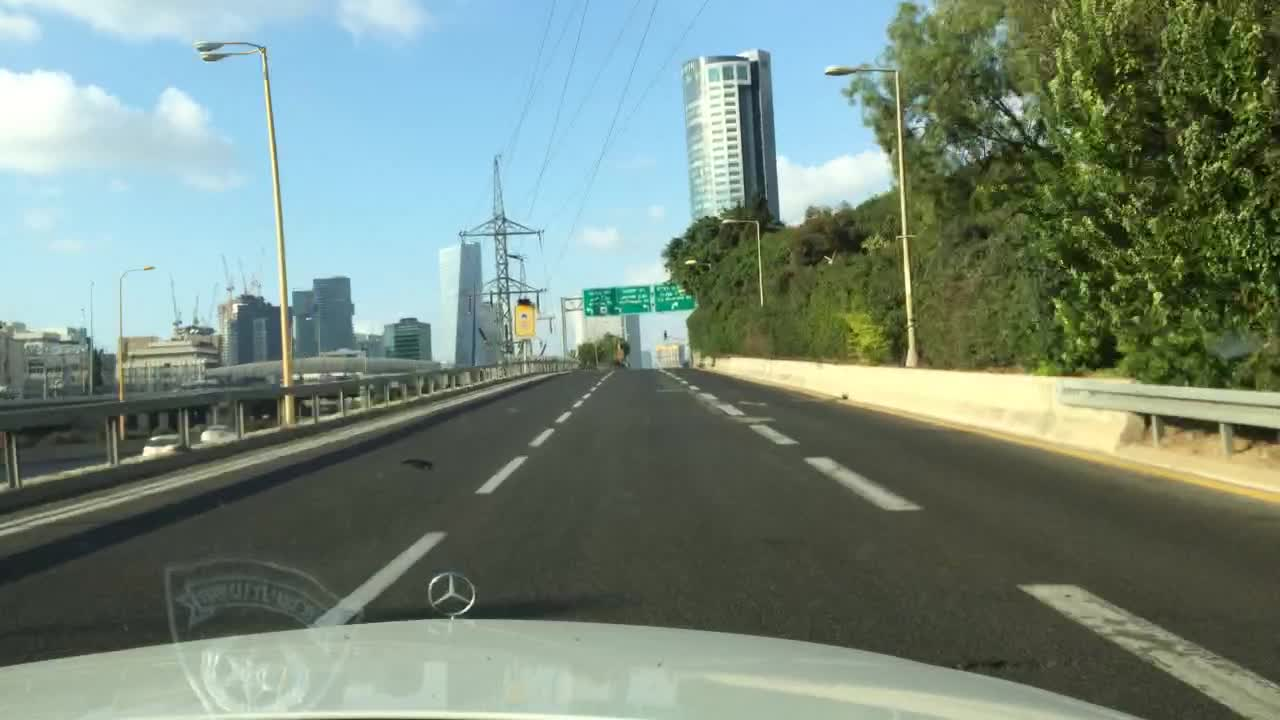car: (138, 433, 185, 457), (198, 422, 234, 443)
traffic sign: (583, 283, 649, 313), (653, 282, 694, 311), (515, 301, 533, 338)
